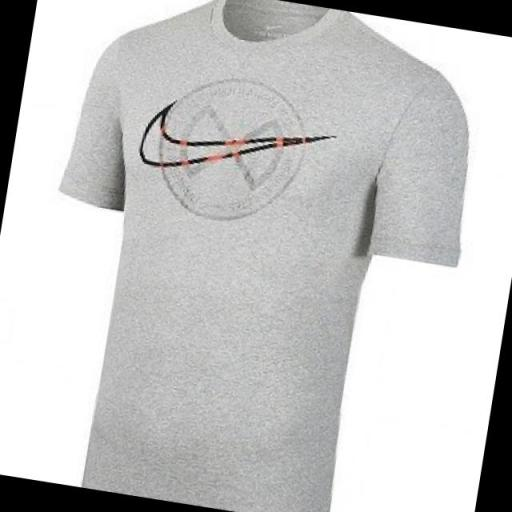Nike: (128, 93, 355, 202)
